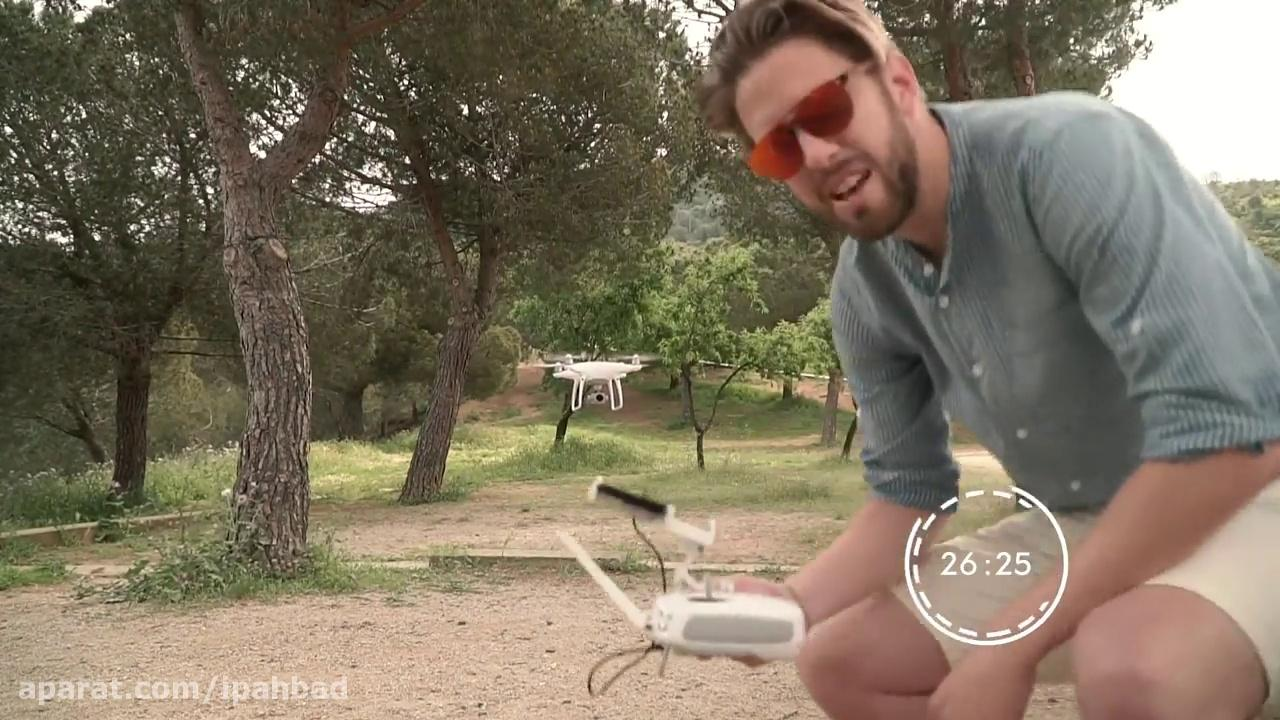drone: (531, 347, 664, 413)
